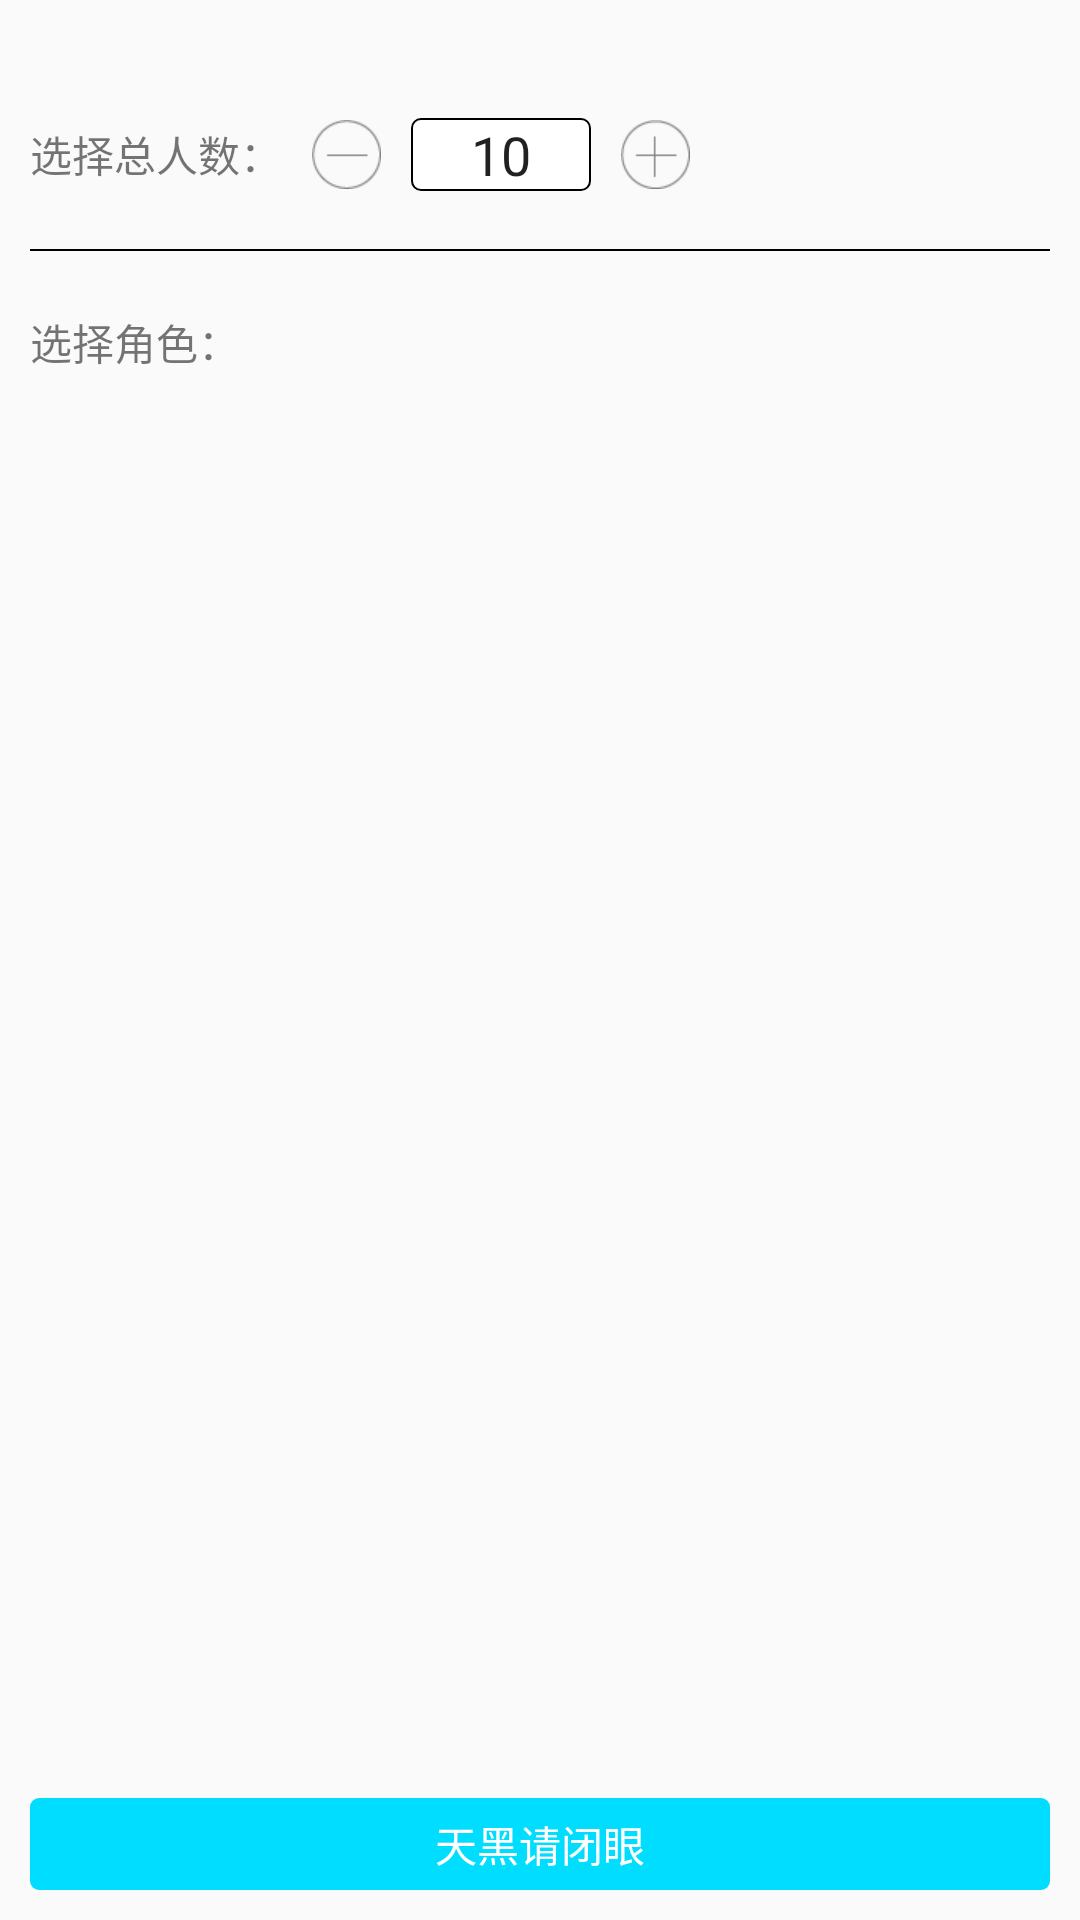

Named icons in this screenshot (1080*1920) and their centers, (x=x, y=y):
减少: (x=346, y=154)
增加: (x=655, y=154)
